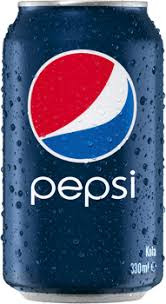pepsi: (3, 1, 162, 295)
